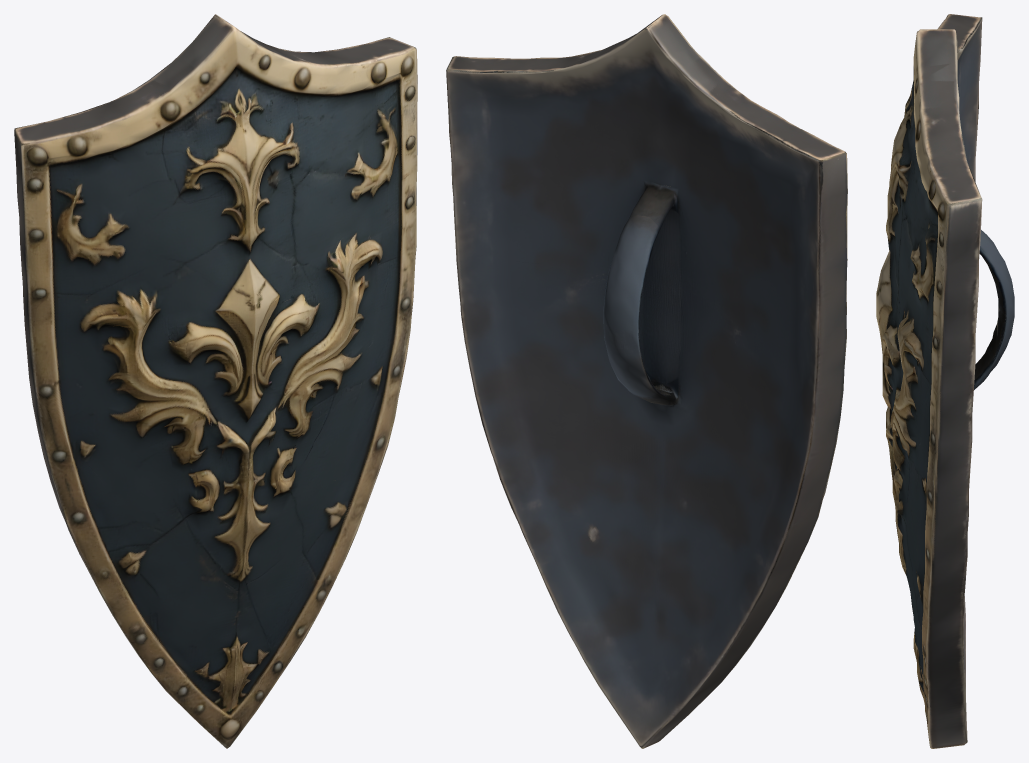
File: PF_Shield9.glb
3 renders of one model, left to right at view 1: azimuth 30°, elevation 25°; view 2: azimuth 150°, elevation 25°; view 3: azimuth 270°, elevation 25°, orthographic.
Size of the model in its own units: 1.08 by 1.91 by 0.3327.
1 material, 1 textured.
